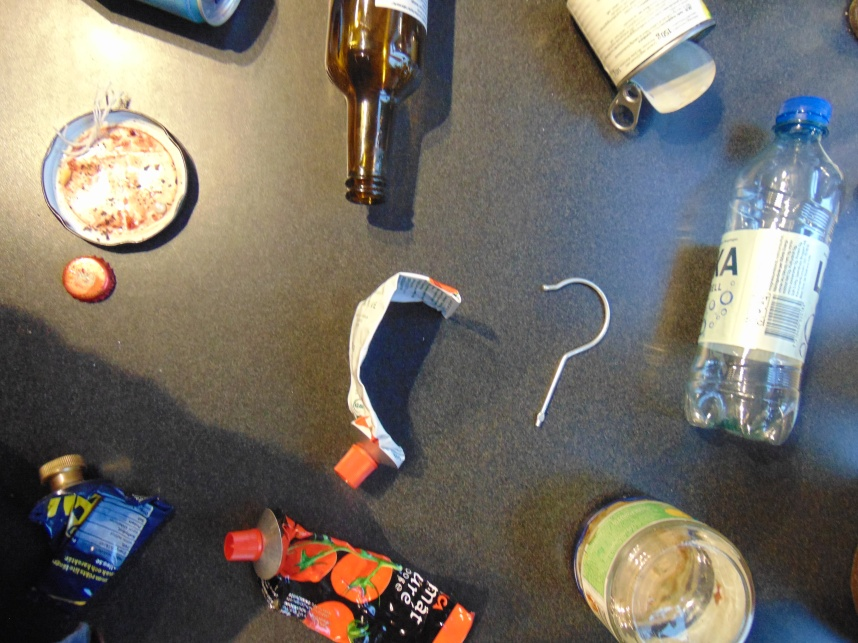glass_bottle: (579, 493, 754, 643), (323, 1, 432, 211)
metal: (238, 502, 471, 643), (346, 264, 467, 468), (42, 108, 191, 250), (32, 474, 176, 609), (531, 277, 606, 430), (64, 255, 117, 303)
metal_can: (562, 1, 717, 85), (125, 1, 238, 24)
plastic_bottle: (688, 95, 848, 459)
